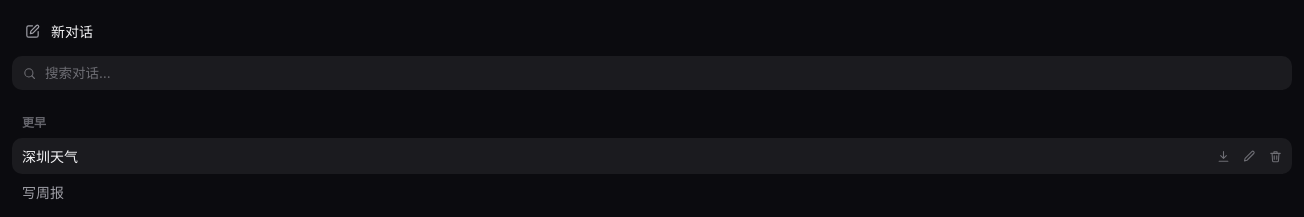
Test: 会话管理 › 搜索框按标题过滤会话
This screenshot has width=1304, height=217.
Expected: the button "深圳天气" is shown, 12,138 -> 1206,174
Type "周报" into the field with placeholder "搜索对话…".
click(664, 73); type("周报")  # box 45,65 -> 1282,81
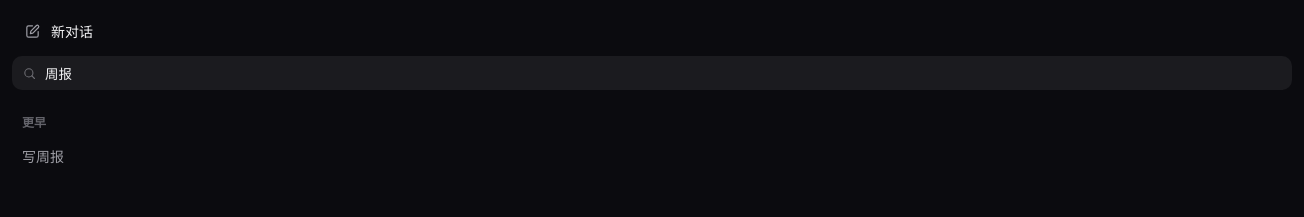
Expected: the button "写周报" is shown, 12,138 -> 1206,174
Now the button "深圳天气" is gone
